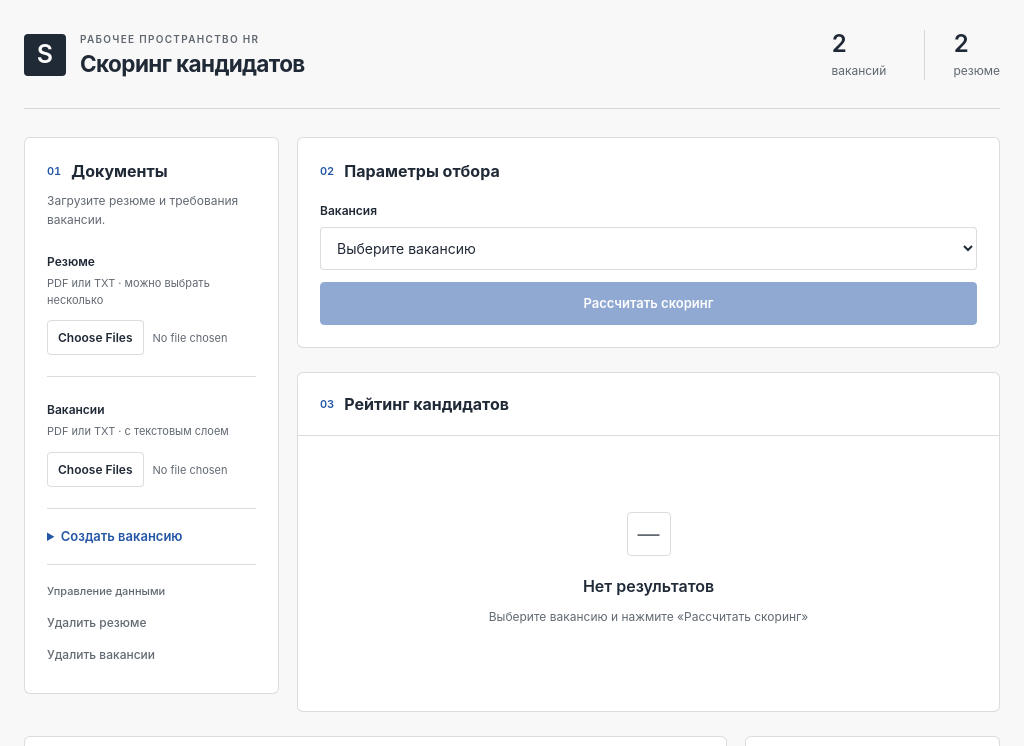
it: sends an empty critical list when all saved critical skills are unchecked
The image size is (1024, 746).
Select "First vacancy (ID: v1)" in the dropdown: (648, 248) [320,227,977,270]
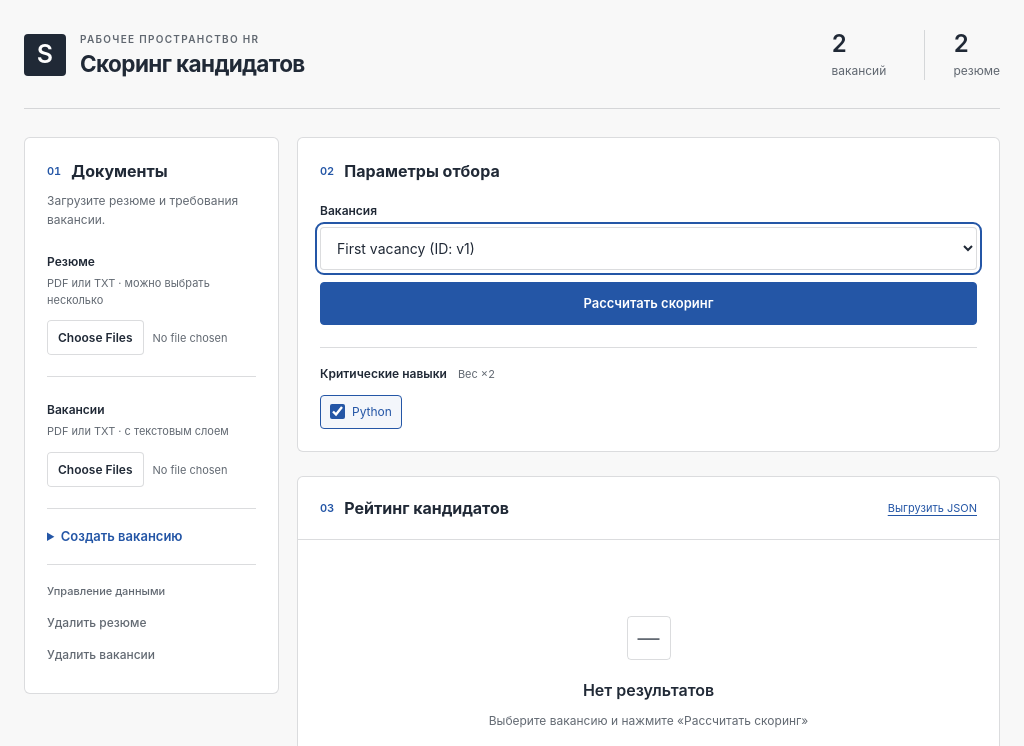
Click the checkbox labelled "Python": (338, 412) [330,404,345,420]
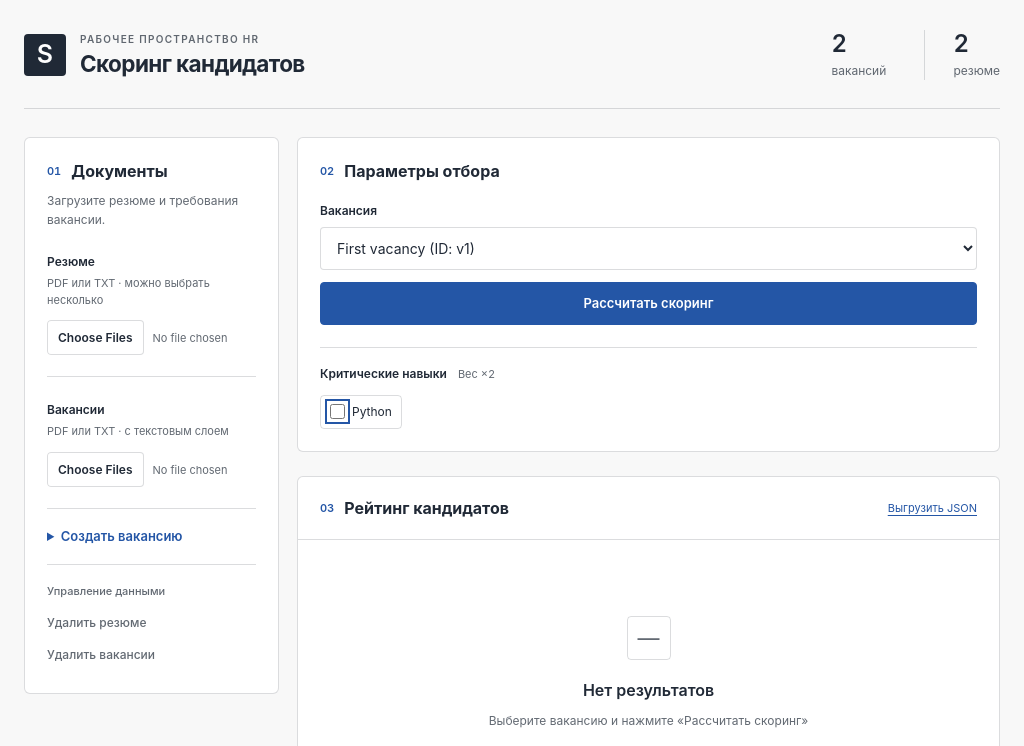
Click the button "Рассчитать скоринг": (648, 304) [320,282,977,325]
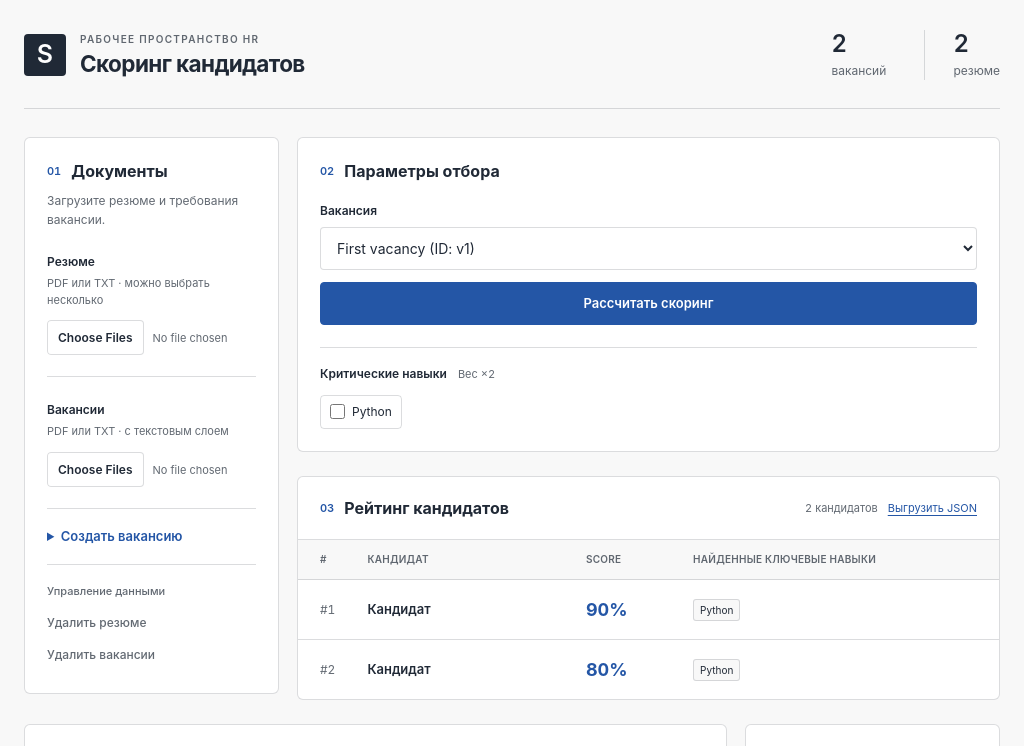
Check: the row "#1 Кандидат 90% Python" is shown, box [298,580,999,640]
